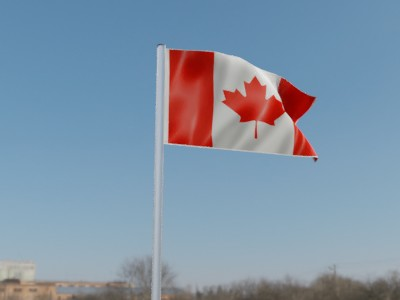Canada flag: (164, 47, 322, 164)
